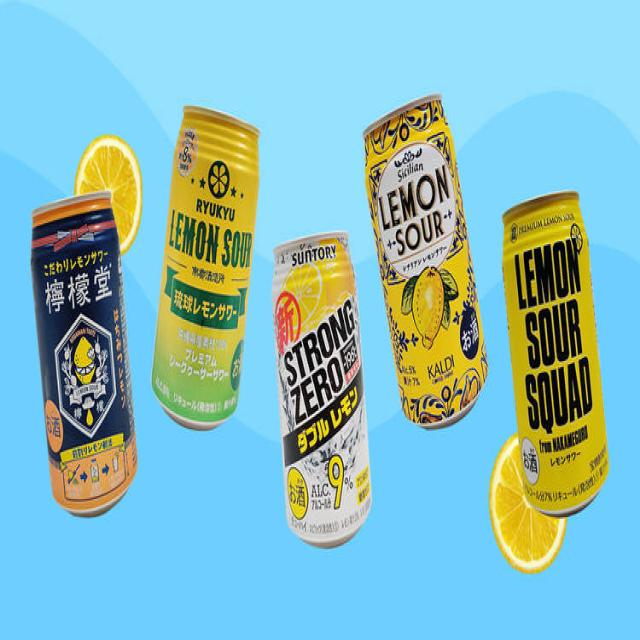Cans: (360, 88, 492, 435), (28, 188, 142, 523), (150, 100, 262, 435), (502, 188, 614, 523), (270, 227, 374, 549)
